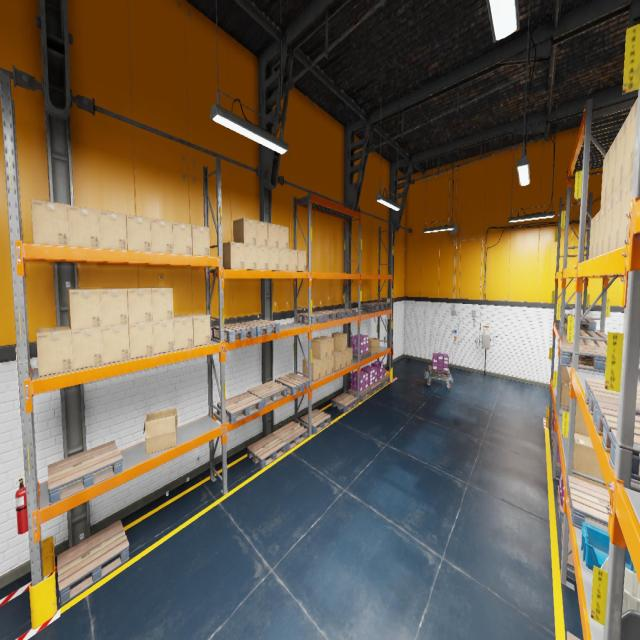box: (572, 432, 608, 490), (36, 326, 73, 376), (31, 198, 69, 246), (143, 408, 178, 454), (67, 204, 100, 248), (622, 97, 638, 185), (67, 289, 101, 330), (71, 327, 103, 370), (97, 288, 128, 327), (98, 210, 127, 250), (102, 324, 130, 364), (122, 288, 152, 324), (618, 174, 632, 247), (144, 288, 174, 322), (126, 214, 151, 252), (614, 118, 626, 195), (129, 322, 153, 358), (185, 313, 210, 346), (151, 218, 173, 254), (610, 186, 622, 251), (606, 135, 617, 203), (153, 319, 174, 354), (174, 314, 193, 350), (172, 222, 192, 254), (222, 242, 245, 269), (234, 217, 256, 245), (600, 149, 610, 209), (604, 196, 614, 253), (192, 225, 210, 256), (575, 398, 589, 436), (598, 204, 606, 255), (303, 357, 320, 381), (311, 337, 327, 359), (244, 243, 257, 270), (593, 210, 600, 258), (318, 335, 333, 357), (256, 220, 268, 246), (560, 381, 570, 410), (332, 332, 347, 351), (257, 246, 268, 270), (589, 216, 595, 259), (268, 223, 278, 247), (268, 247, 278, 270), (335, 350, 347, 368), (279, 225, 288, 249), (279, 248, 288, 271), (368, 338, 379, 354), (289, 249, 297, 271), (298, 250, 306, 271), (334, 350, 341, 371), (561, 366, 570, 382), (321, 358, 327, 378), (328, 356, 333, 374), (348, 347, 352, 366)
pallets: (57, 520, 129, 606), (48, 440, 122, 505), (596, 401, 640, 481), (584, 378, 640, 426), (567, 476, 610, 531), (560, 342, 607, 373), (217, 392, 262, 424), (247, 433, 286, 468), (247, 381, 287, 408), (272, 421, 307, 451), (562, 335, 607, 357), (561, 524, 576, 582), (212, 323, 256, 342), (275, 373, 310, 396), (300, 409, 331, 434), (239, 319, 280, 336), (556, 316, 596, 332), (332, 392, 358, 412), (554, 313, 590, 326), (566, 329, 607, 338), (297, 312, 327, 324), (348, 387, 372, 401), (312, 310, 341, 321), (557, 486, 564, 524), (429, 366, 450, 378), (332, 308, 356, 318), (368, 381, 382, 394), (352, 351, 370, 360), (361, 303, 382, 310), (377, 376, 390, 387), (371, 302, 391, 308), (566, 632, 580, 639), (556, 462, 561, 477), (552, 434, 554, 453), (551, 422, 553, 441)
